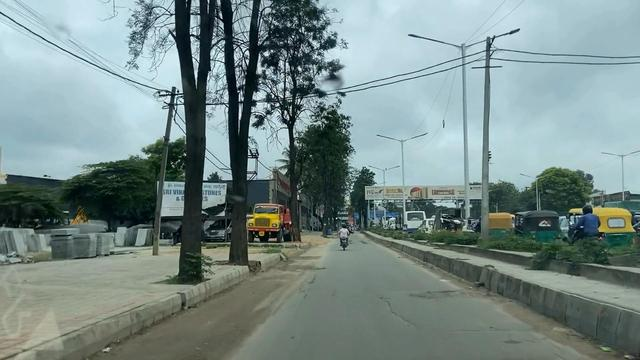RoadDamages: (384, 280, 480, 318)
